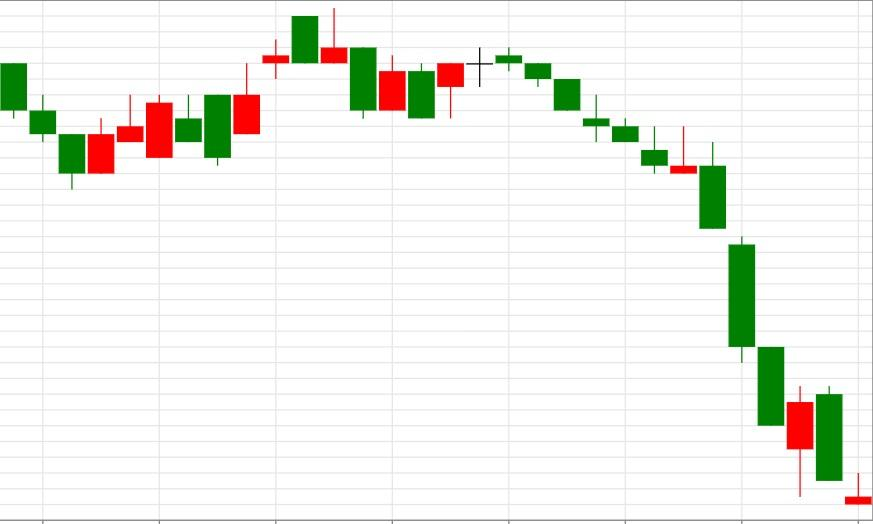three_black_crows_fall: (407, 46, 581, 118)
